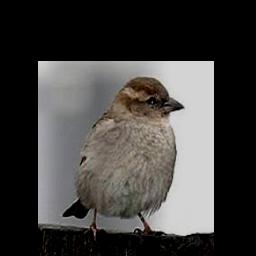Sparrow: (61, 76, 184, 244)
